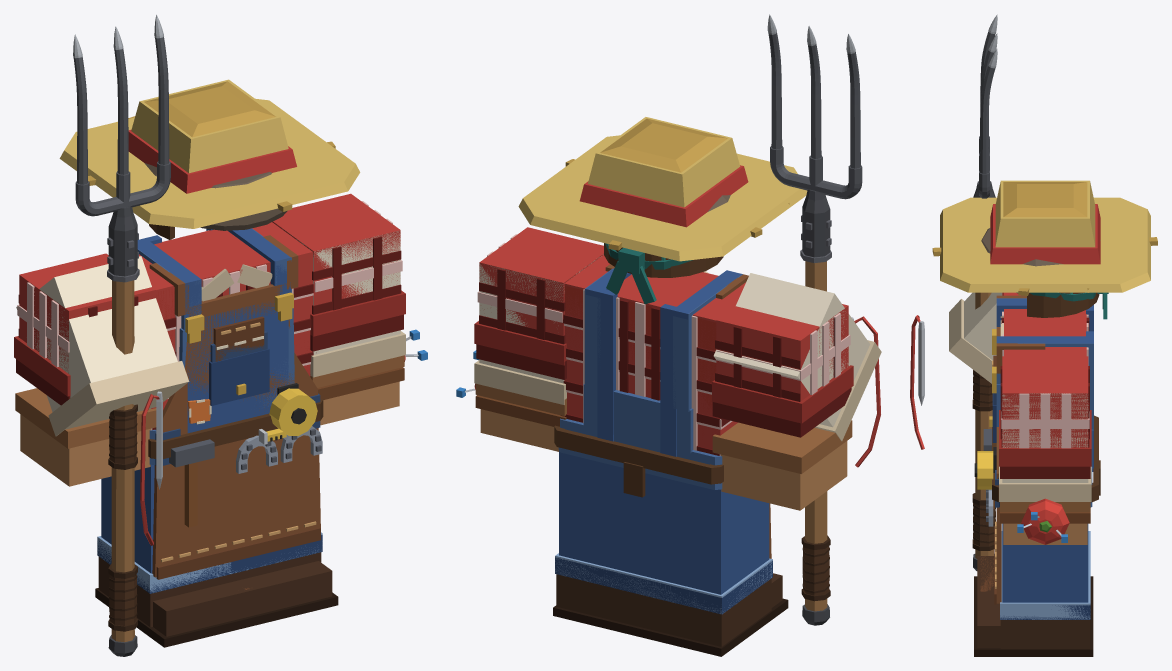
File: w1_keepers.fbx
3 views of the same model, side by side, from view 1: azimuth 30°, elevation 25°; view 2: azimuth 150°, elevation 25°; view 3: azimuth 270°, elevation 25° (orthographic). The views are drawn at different scales.
Visible parts, largest first — view 1: FarrierGear.Apron, FarmerGear.Hat, TailorGear.SleeveR, FarrierGear.Boots, FarmerGear.Overalls, FarrierGear.Shirt, FarmerGear.ForkTines, FarrierGear.SleeveL, TailorGear.CuffR, FarmerGear.ForkShaft, FarmerGear.HatDetail, FarmerGear.SleevePlaidL (+38 smaller); view 2: FarmerGear.Trousers, FarmerGear.Hat, TailorGear.Overalls, FarrierGear.Boots, FarrierGear.Shirt, FarmerGear.Overalls, FarrierGear.SleeveL, TailorGear.SleeveR, FarmerGear.ForkTines, FarrierGear.SleeveR, FarrierGear.GloveR, FarmerGear.SleevePlaidR (+28 smaller); view 3: FarmerGear.Hat, FarrierGear.SleeveL, FarmerGear.Trousers, FarmerGear.HatDetail, FarrierGear.Boots, FarrierGear.Shirt, FarrierGear.SleeveChecksL, FarmerGear.HatBand, FarrierGear.CuffL, TailorGear.TrouserCuffs, TailorGear.CuffL, TailorGear.SleeveL (+24 smaller).
Boxes of the visible parts, left/top/right/bottom form: FarrierGear.Apron: left=149, top=235, right=320, bottom=577; FarmerGear.Hat: left=59, top=79, right=360, bottom=228; TailorGear.SleeveR: left=16, top=256, right=177, bottom=411; FarrierGear.Boots: left=98, top=552, right=332, bottom=636; FarmerGear.Overalls: left=137, top=228, right=290, bottom=433; FarrierGear.Shirt: left=139, top=222, right=312, bottom=409; FarmerGear.ForkTines: left=73, top=37, right=170, bottom=216; FarrierGear.SleeveL: left=272, top=193, right=400, bottom=305; TailorGear.CuffR: left=48, top=361, right=189, bottom=436; FarmerGear.ForkShaft: left=111, top=280, right=134, bottom=642; FarmerGear.HatDetail: left=88, top=81, right=335, bottom=211; FarmerGear.SleevePlaidL: left=310, top=236, right=403, bottom=351; FarmerGear.Trousers: left=559, top=450, right=769, bottom=594; FarmerGear.Hat: left=518, top=117, right=807, bottom=261; TailorGear.Overalls: left=558, top=269, right=742, bottom=489; FarrierGear.Boots: left=556, top=573, right=782, bottom=646; FarrierGear.Shirt: left=564, top=255, right=745, bottom=449; FarmerGear.Overalls: left=585, top=268, right=741, bottom=456; FarrierGear.SleeveL: left=479, top=227, right=603, bottom=335; TailorGear.SleeveR: left=713, top=273, right=869, bottom=427; FarmerGear.ForkTines: left=768, top=32, right=862, bottom=199; FarrierGear.SleeveR: left=716, top=304, right=848, bottom=401; FarrierGear.GloveR: left=721, top=441, right=847, bottom=510; FarmerGear.SleevePlaidR: left=712, top=318, right=851, bottom=437; FarmerGear.Hat: left=940, top=180, right=1150, bottom=292; FarrierGear.SleeveL: left=1002, top=356, right=1088, bottom=447; FarmerGear.Trousers: left=1002, top=523, right=1088, bottom=602; FarmerGear.HatDetail: left=932, top=182, right=1157, bottom=295; FarrierGear.Boots: left=977, top=556, right=1089, bottom=648; FarrierGear.Shirt: left=1004, top=292, right=1086, bottom=356; FarrierGear.SleeveChecksL: left=1001, top=393, right=1089, bottom=448; FarmerGear.HatBand: left=990, top=204, right=1100, bottom=264; FarrierGear.CuffL: left=999, top=410, right=1091, bottom=466; TailorGear.TrouserCuffs: left=1000, top=531, right=1090, bottom=619; TailorGear.CuffL: left=999, top=466, right=1091, bottom=501; TailorGear.SleeveL: left=1002, top=393, right=1088, bottom=482.
Bounding box in the file's own units: 4.56 × 7.32 × 3.06.
